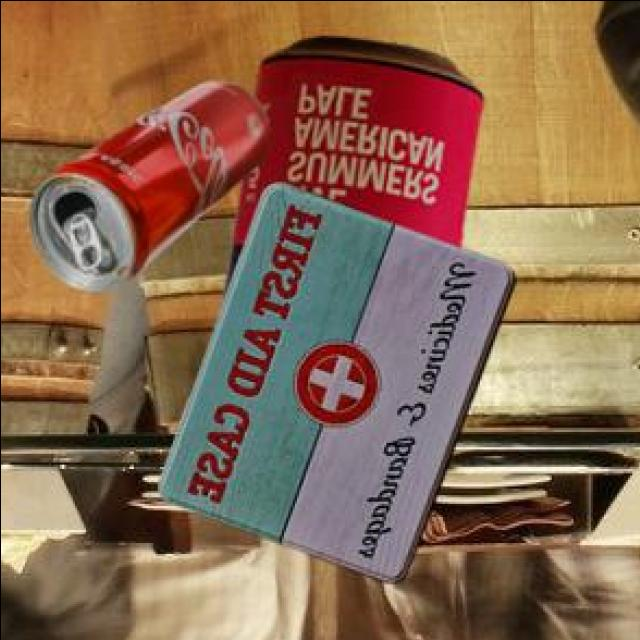logam: (156, 186, 510, 584), (219, 38, 478, 306), (25, 84, 264, 293)
